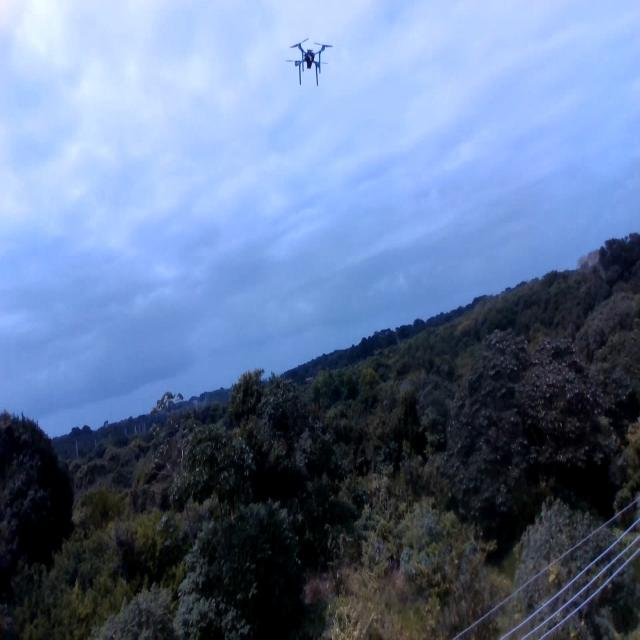-uav-: (284, 29, 338, 92)
